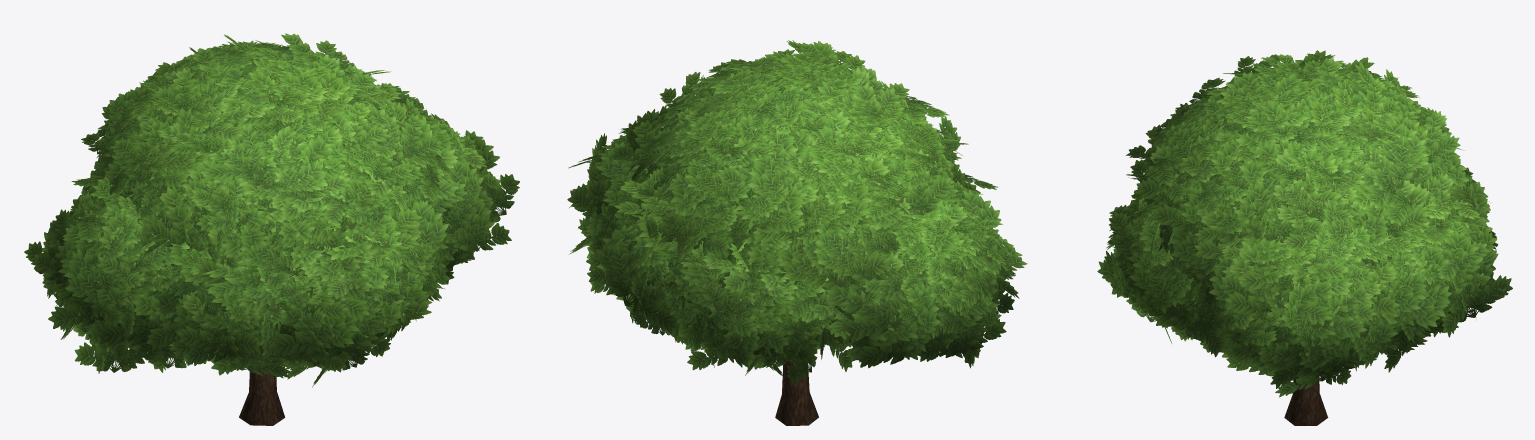
File: broadleaf_b_lod1.glb
3 views of the same model, side by side, from view 1: azimuth 30°, elevation 25°; view 2: azimuth 150°, elevation 25°; view 3: azimuth 270°, elevation 25° (orthographic). The views are drawn at different scales.
Parts seen in each view (by area): view 1: leaves, wood; view 2: leaves, wood; view 3: leaves, wood.
Part boxes in pixels (x1,y1,x2,y2): leaves: (24, 33, 519, 387); wood: (239, 363, 284, 425); leaves: (567, 40, 1027, 383); wood: (775, 359, 818, 425); leaves: (1097, 50, 1512, 397); wood: (1284, 377, 1328, 425).
Bounding box in the file's own units: 12.89 × 10.12 × 11.08.
2 materials, 2 textured.
